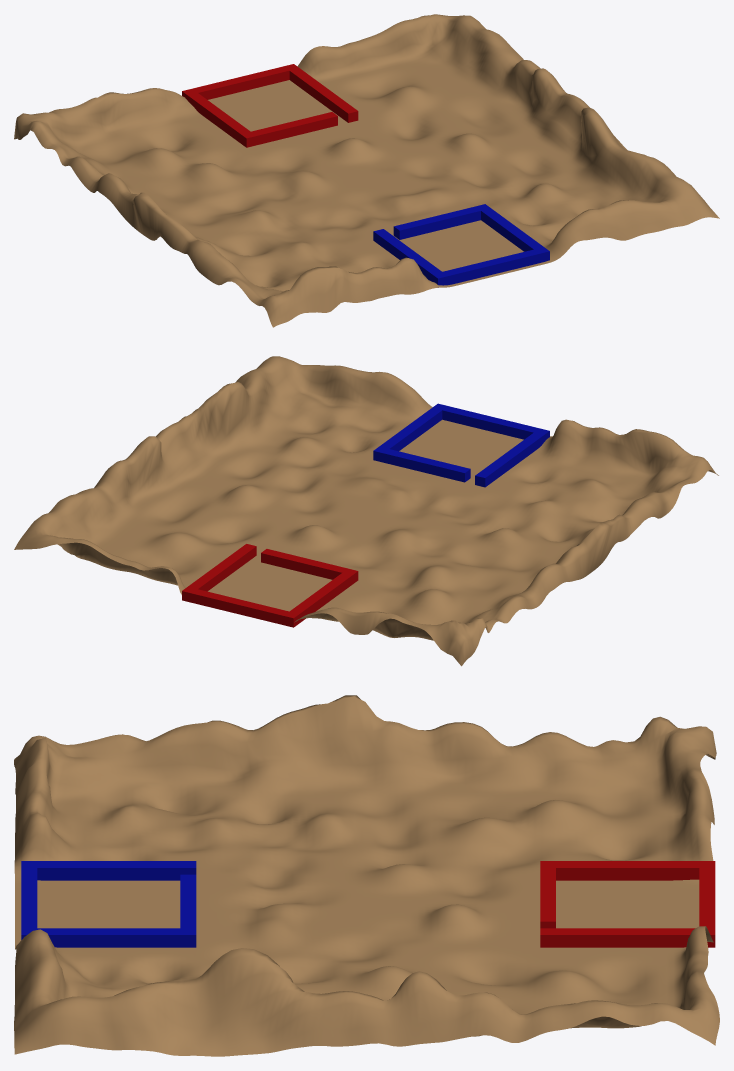
Rendered from level_xlarge.obj.
3 renders of one model, top to bottom at view 1: azimuth 30°, elevation 25°; view 2: azimuth 150°, elevation 25°; view 3: azimuth 270°, elevation 25°, orthographic. The views are drawn at different scales.
Visible parts, largest first — view 1: Plane_Plane.003, Plane.001_Plane.004, Plane.002_Plane.005; view 2: Plane_Plane.003, Plane.002_Plane.005, Plane.001_Plane.004; view 3: Plane_Plane.003, Plane.002_Plane.005, Plane.001_Plane.004.
Boxes of the visible parts, x1,y1,x2,y2 form: Plane_Plane.003: (14, 14, 719, 327); Plane.001_Plane.004: (182, 64, 358, 147); Plane.002_Plane.005: (373, 204, 549, 287); Plane_Plane.003: (14, 356, 718, 666); Plane.002_Plane.005: (373, 403, 549, 487); Plane.001_Plane.004: (182, 544, 358, 627); Plane_Plane.003: (14, 695, 719, 1056); Plane.002_Plane.005: (21, 861, 196, 947); Plane.001_Plane.004: (540, 861, 715, 947).
Size of the model in its own units: 206 by 31.07 by 202.
